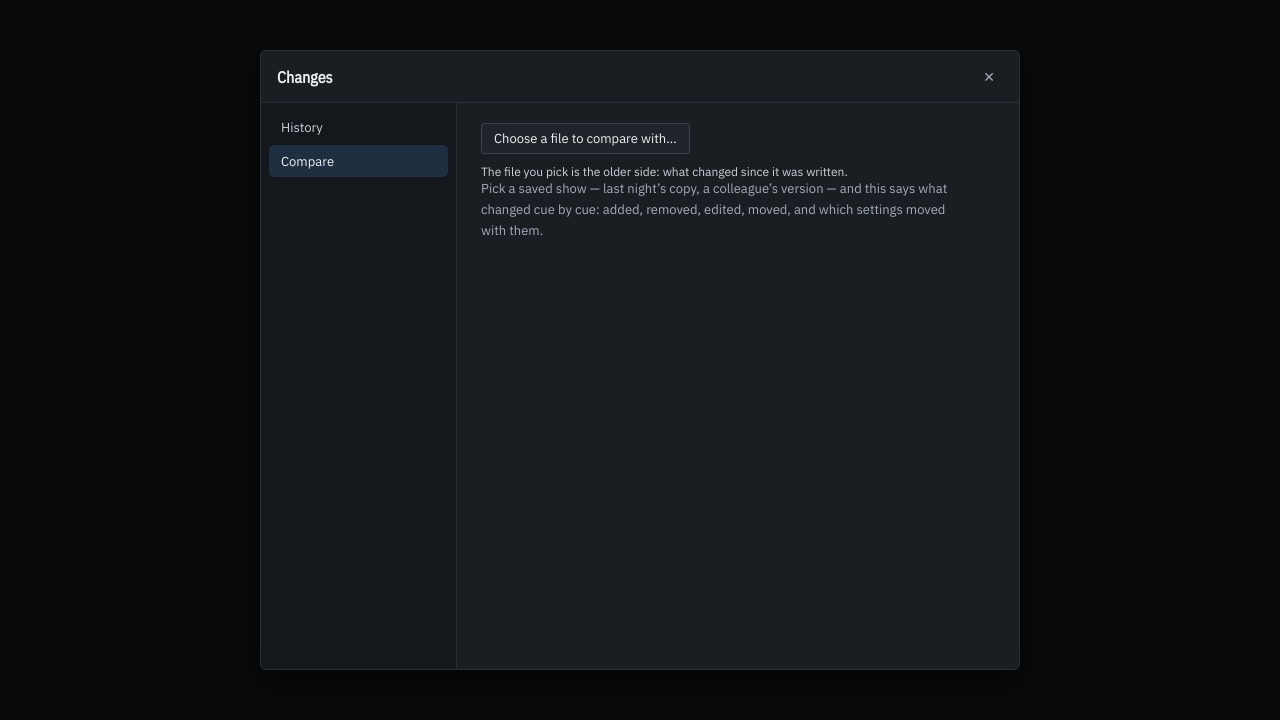
Test: comparing with another file › says the two files are different shows rather than pretending they are versions
Click the button with class "changes-choose". click: (585, 138)
box: [481,123,690,154]
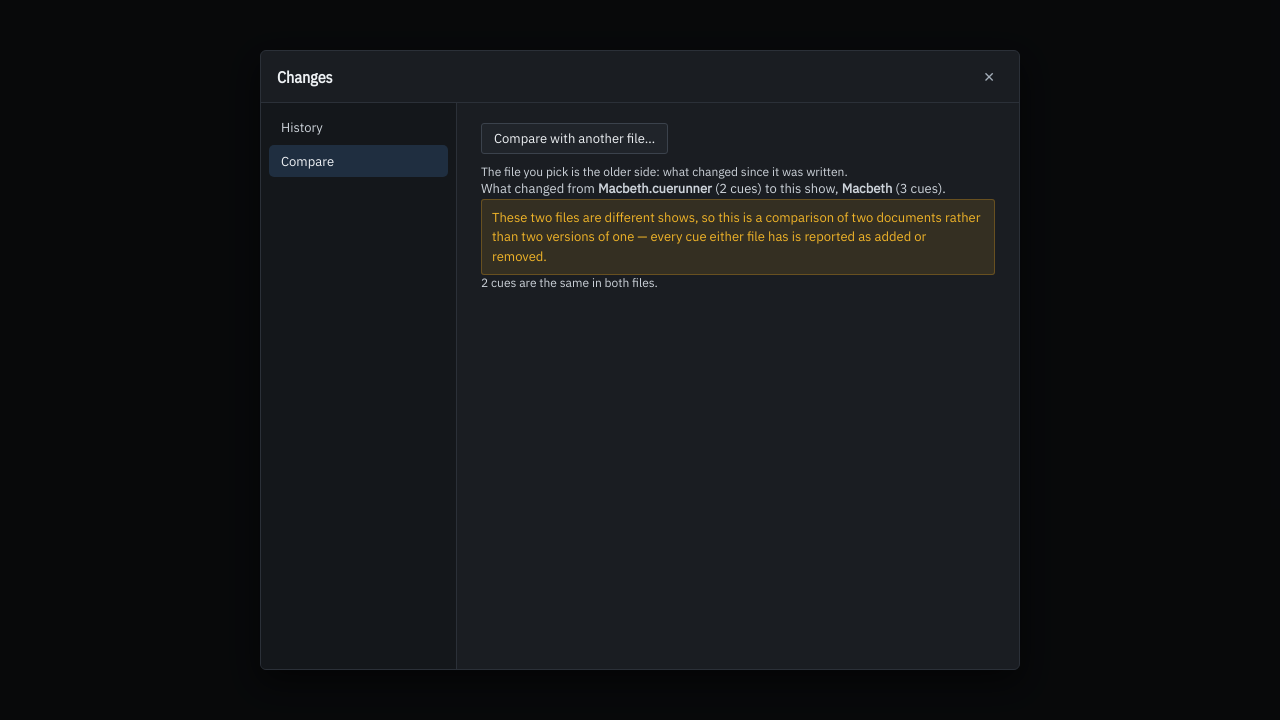
expect the text with class "changes-note" shows "different shows": met, box [492,208,980,264]
